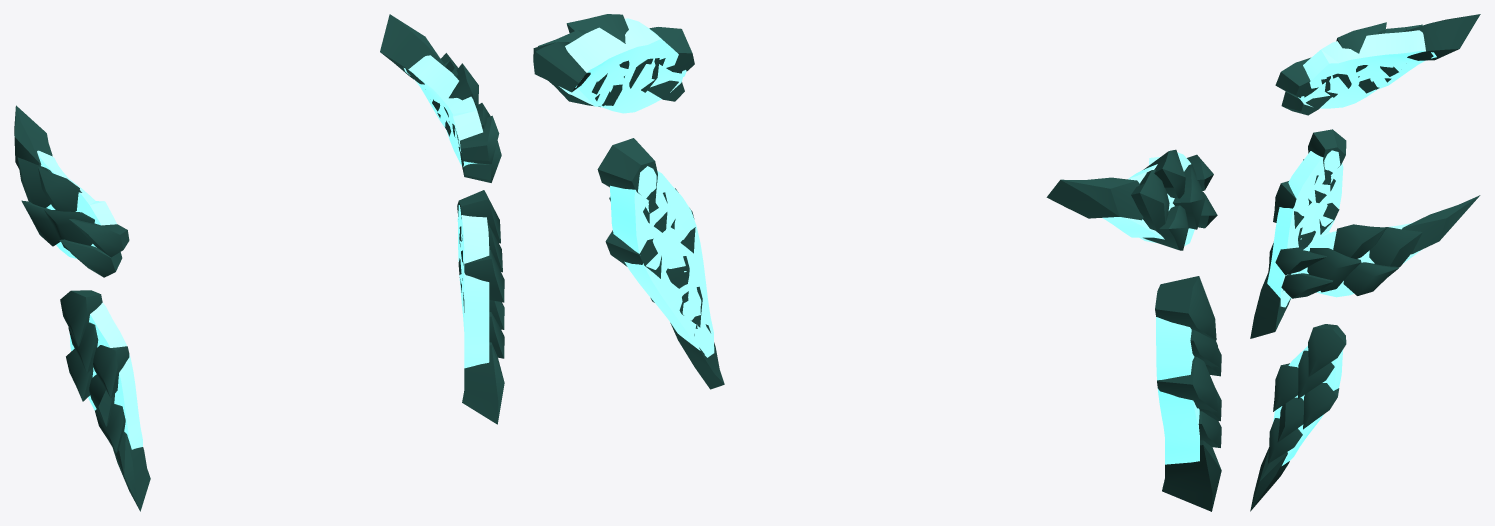
Rendered from SerpentScalesFang.fbx.
3 views of the same model, side by side, from view 1: azimuth 30°, elevation 25°; view 2: azimuth 150°, elevation 25°; view 3: azimuth 270°, elevation 25° (orthographic). The views are drawn at different scales.
Visible parts, largest first — view 1: SerpentScalesFang_RightScales, SerpentScalesFang_LeftScales, SerpentScalesFang_LeftSeam, SerpentScalesFang_RightSeam; view 2: SerpentScalesFang_RightScales, SerpentScalesFang_LeftSeam, SerpentScalesFang_LeftScales, SerpentScalesFang_RightSeam; view 3: SerpentScalesFang_LeftScales, SerpentScalesFang_RightSeam, SerpentScalesFang_RightScales, SerpentScalesFang_LeftSeam.
Part boxes in pixels (x1=…): SerpentScalesFang_RightScales: x1=14, y1=105, x2=150, y2=511; SerpentScalesFang_LeftScales: x1=380, y1=14, x2=504, y2=424; SerpentScalesFang_LeftSeam: x1=404, y1=55, x2=489, y2=368; SerpentScalesFang_RightSeam: x1=37, y1=150, x2=142, y2=449; SerpentScalesFang_RightScales: x1=1046, y1=149, x2=1221, y2=511; SerpentScalesFang_LeftSeam: x1=559, y1=18, x2=714, y2=357; SerpentScalesFang_LeftScales: x1=533, y1=14, x2=724, y2=389; SerpentScalesFang_RightSeam: x1=1102, y1=152, x2=1199, y2=464; SerpentScalesFang_LeftScales: x1=1250, y1=195, x2=1480, y2=511; SerpentScalesFang_RightSeam: x1=1267, y1=30, x2=1436, y2=307; SerpentScalesFang_RightScales: x1=1250, y1=14, x2=1480, y2=338; SerpentScalesFang_LeftSeam: x1=1273, y1=222, x2=1422, y2=465.
Size of the model in its own units: 1.28 by 0.8847 by 0.5758.
